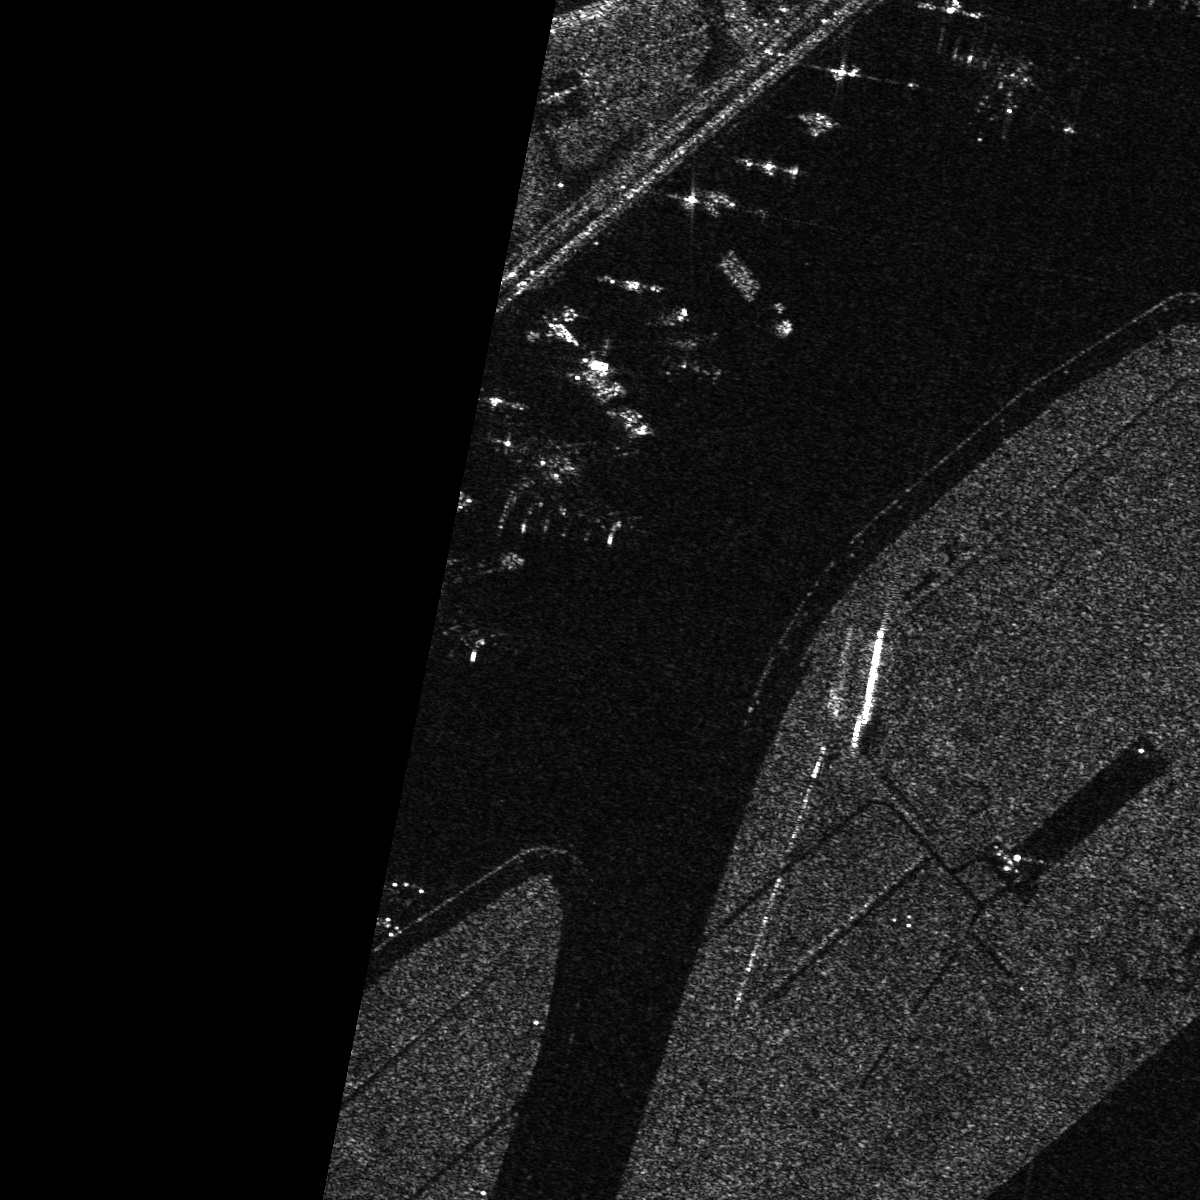Boeing787: (487, 416, 646, 555)
other: (963, 27, 1074, 149), (647, 297, 734, 386)
